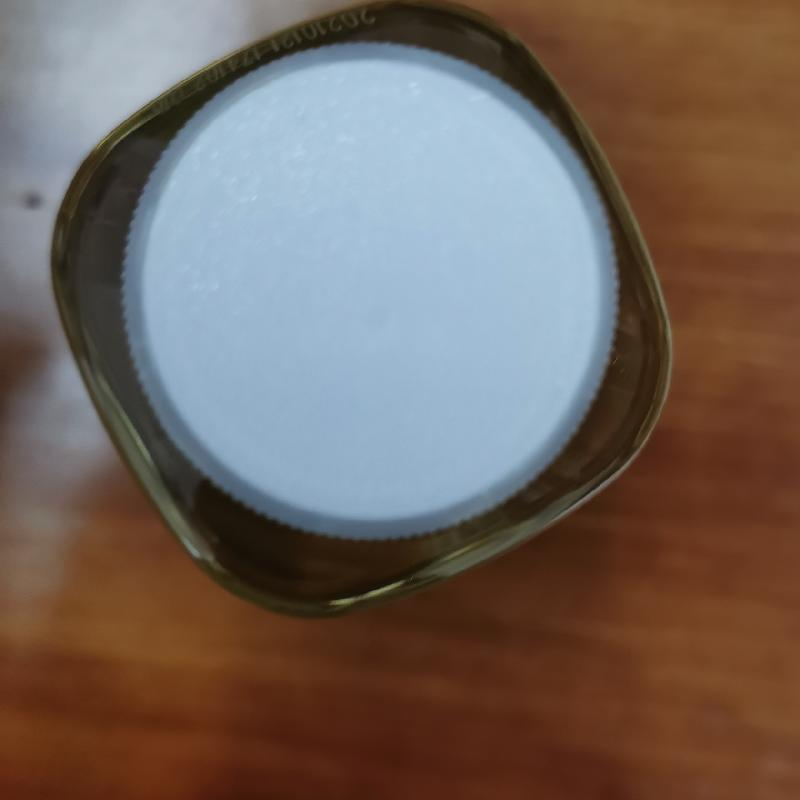bottles: (45, 3, 680, 621)
